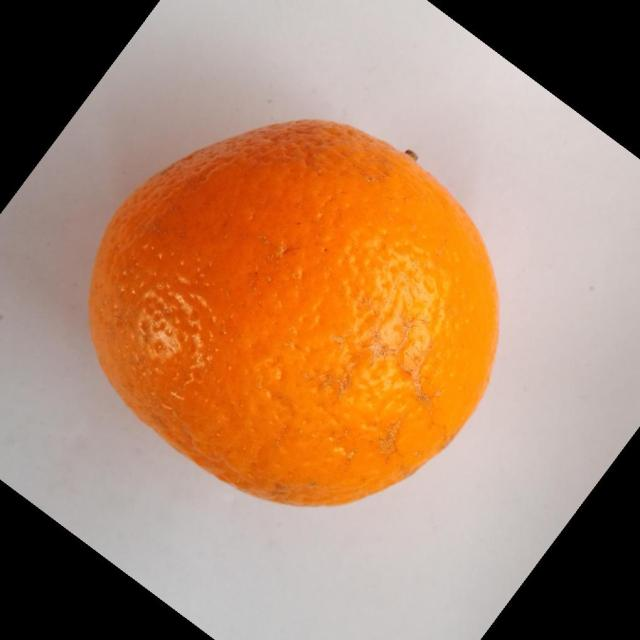fresh orange: (87, 116, 500, 508)
